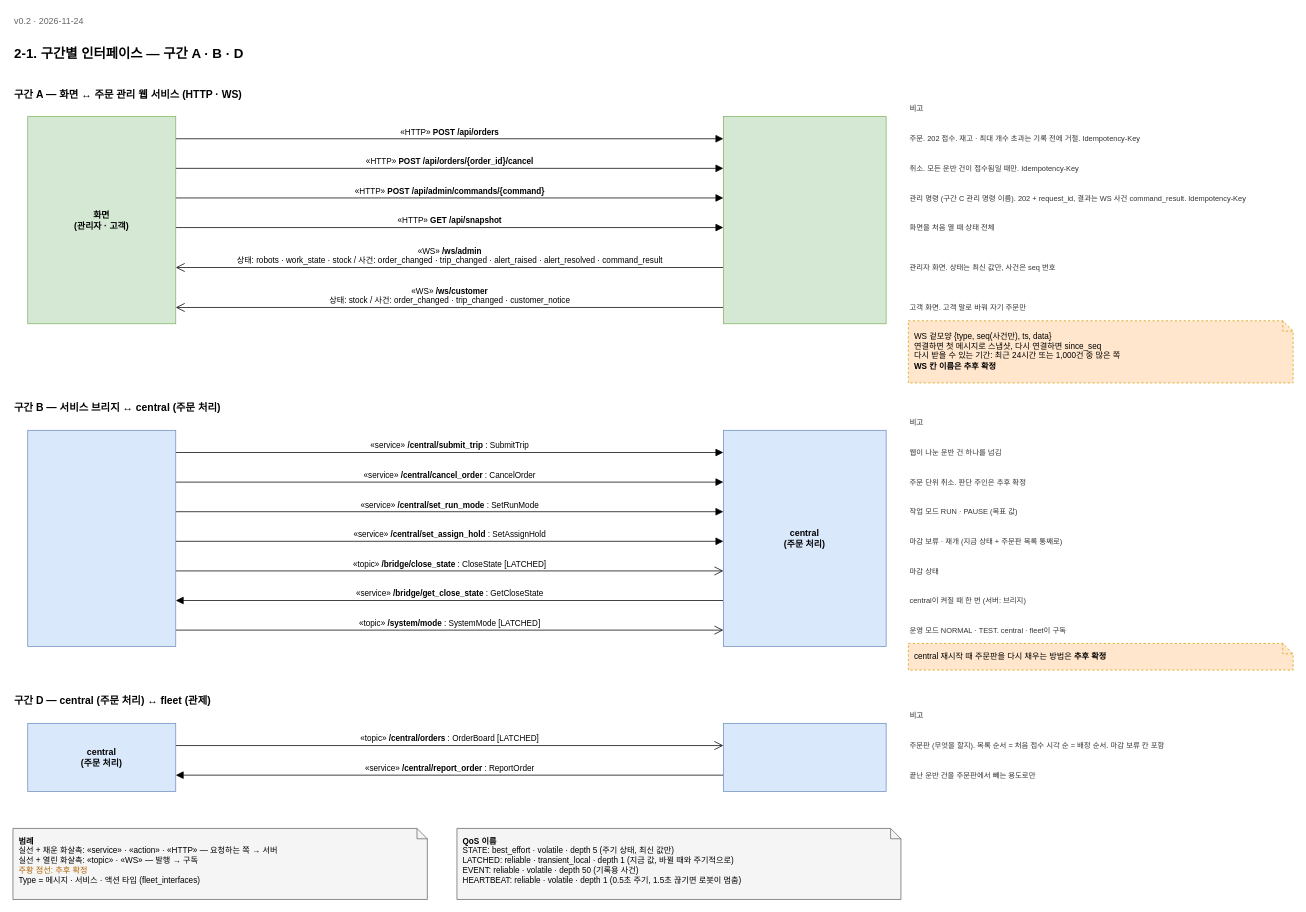
This 1306x912 diagram has some shape labels left out. Here are the shapes that lost their labels. From the top down, the centre of each, then its label:
At pixel 804 220: "주문 관리 웹 서비스".
At pixel 101 538: "서비스 브리지".
At pixel 804 757: "fleet (관제)".
